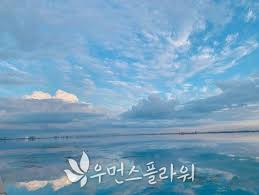lake: (3, 133, 258, 193)
sky: (1, 1, 258, 131)
